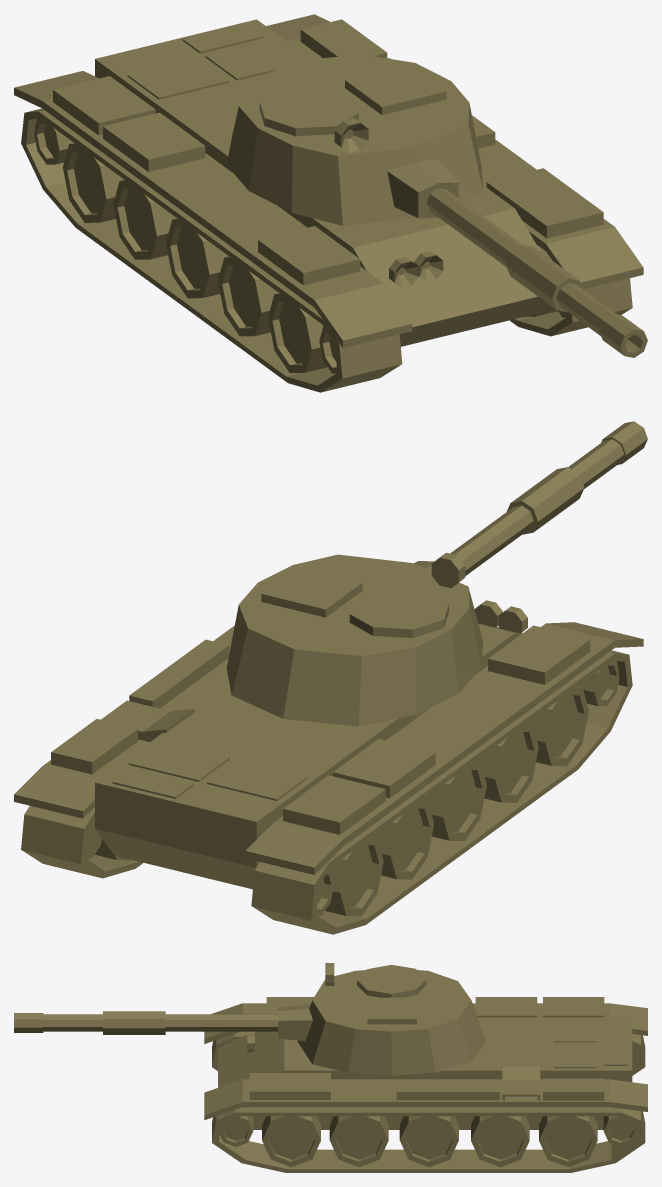
File: Low-poly_tank.glb
The picture shows the model from 3 angles, top to bottom: view 1: azimuth 30°, elevation 25°; view 2: azimuth 150°, elevation 25°; view 3: azimuth 270°, elevation 25°; orthographic projection. The views are drawn at different scales.
Parts seen in each view (by area): view 1: Tank_0, Turret_0, Compartments_0, Treads_0, Barrel_0, Treads_2, Treads_1, Box_0, Grill_0, BodyLamp_1, TurretLamp_1; view 2: Tank_0, Turret_0, Treads_0, Compartments_0, Treads_2, Treads_1, Box_0, Barrel_0, Grill_0, BodyLamp_0, TurretLamp_0; view 3: Tank_0, Turret_0, Treads_0, Compartments_0, Treads_1, Treads_2, Barrel_0, Box_0, Grill_0.
Boxes of the visible parts, <box> form: Tank_0: <box>14,14,643,347</box>; Turret_0: <box>226,54,483,225</box>; Compartments_0: <box>53,19,603,285</box>; Treads_0: <box>21,108,632,392</box>; Barrel_0: <box>387,159,647,357</box>; Treads_2: <box>63,143,557,372</box>; Treads_1: <box>34,118,567,373</box>; Box_0: <box>259,64,446,136</box>; Grill_0: <box>127,23,304,99</box>; BodyLamp_1: <box>394,255,443,287</box>; TurretLamp_1: <box>341,123,368,153</box>; Tank_0: <box>14,622,643,889</box>; Turret_0: <box>226,554,483,726</box>; Treads_0: <box>21,650,632,934</box>; Compartments_0: <box>51,625,590,834</box>; Treads_2: <box>95,686,588,916</box>; Treads_1: <box>86,660,619,915</box>; Box_0: <box>261,567,448,637</box>; Barrel_0: <box>413,421,647,575</box>; Grill_0: <box>112,740,308,800</box>; BodyLamp_0: <box>474,600,527,633</box>; TurretLamp_0: <box>431,552,465,588</box>; Tank_0: <box>204,1003,647,1129</box>; Turret_0: <box>297,970,485,1075</box>; Treads_0: <box>212,1031,645,1172</box>; Compartments_0: <box>249,997,604,1100</box>; Treads_1: <box>220,1046,636,1159</box>; Treads_2: <box>262,1116,597,1166</box>; Barrel_0: <box>14,1004,312,1041</box>; Box_0: <box>357,964,426,1024</box>; Grill_0: <box>554,1018,627,1068</box>.
Bounding box in the file's own units: 3.66 × 2.49 × 9.92.
